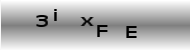3: (34, 14, 49, 27)
E: (124, 25, 138, 39)
F: (96, 24, 109, 38)
i: (52, 8, 57, 21)
x: (80, 16, 94, 27)
